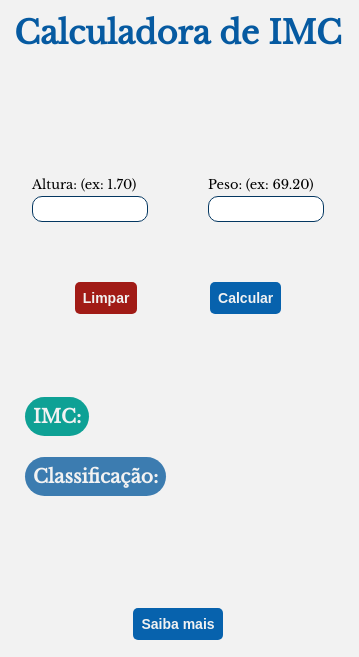
Test: Test usage of Calculator page › Should clear inputs when clear button is clicked
expect the button "Limpar" is shown: met, box top-left (75, 282), bottom-right (137, 314)
Type "1.76" into the number field with test id "height".
click(90, 209); type("1.76")  # box top-left (32, 196), bottom-right (148, 222)
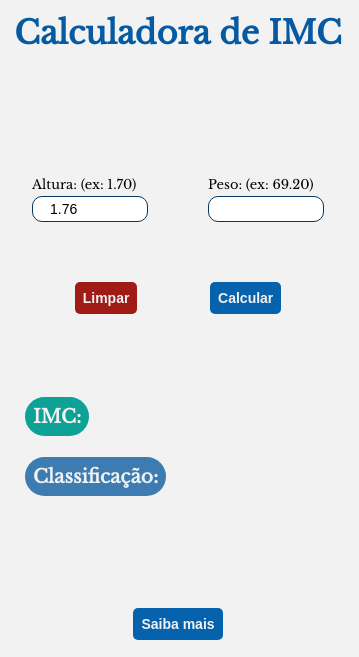
Type "83" into the number field with test id "weight".
click(266, 209); type("83")  # box top-left (208, 196), bottom-right (324, 222)
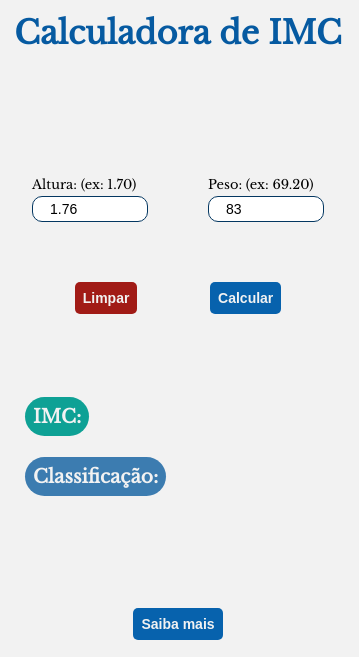
Click the button "Limpar".
click(106, 298)  # box top-left (75, 282), bottom-right (137, 314)
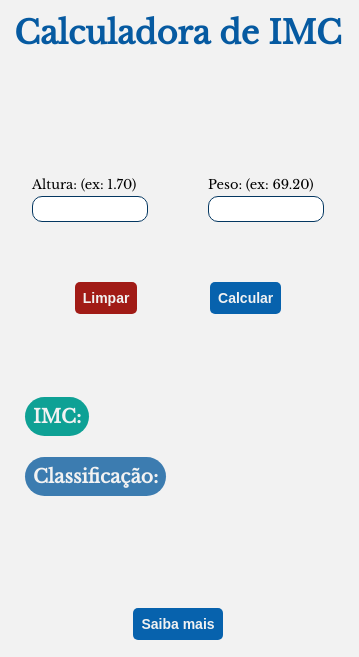
expect the number field with test id "height" is not empty: met, box top-left (32, 196), bottom-right (148, 222)
expect the number field with test id "weight" is not empty: met, box top-left (208, 196), bottom-right (324, 222)
